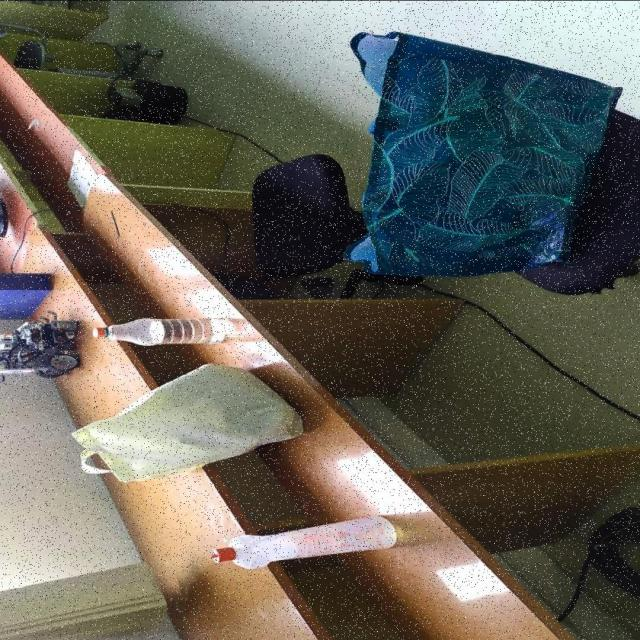Bag: (346, 26, 622, 276), (70, 364, 303, 482)
